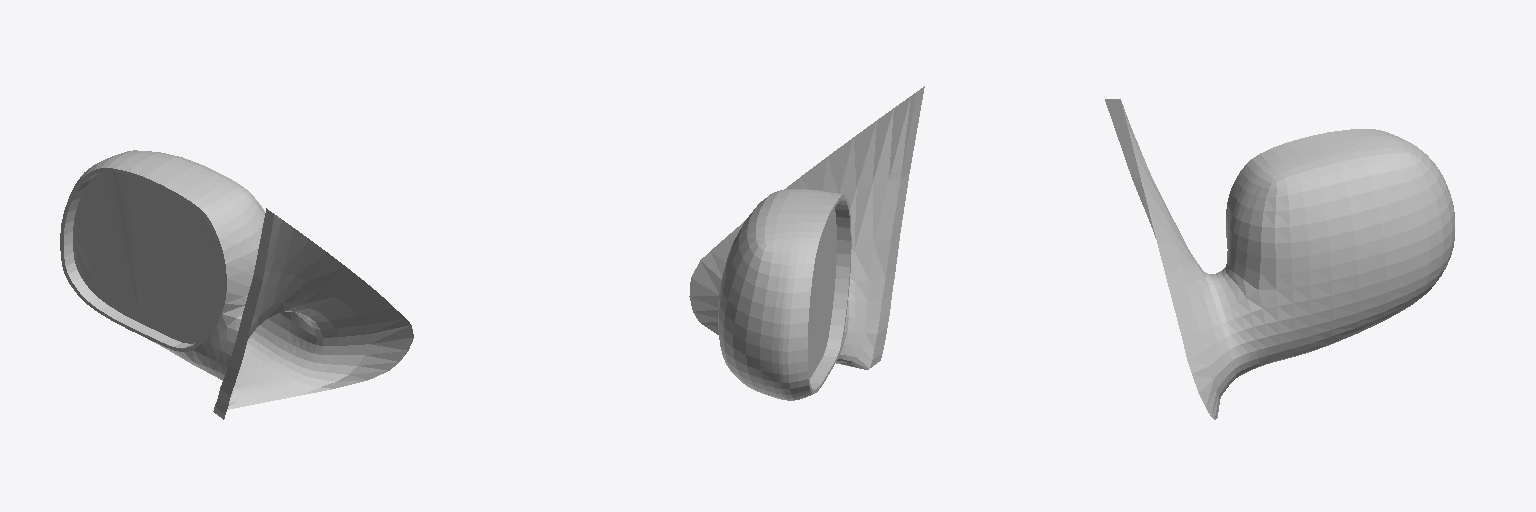
The picture shows the model from 3 angles: view 1: azimuth 30°, elevation 25°; view 2: azimuth 150°, elevation 25°; view 3: azimuth 270°, elevation 25°; orthographic projection.
Parts seen in each view (by area): view 1: P815_261I_L_1_D_P815_261I_L, P815_261I_L_P815_261I_L_2_DTaSI, P815_261I_L_P815_261I_L_3_DaS, P815_261I_L_P815_261I_L_3_DaS_E; view 2: P815_261I_L_1_D_P815_261I_L, P815_261I_L_P815_261I_L_3_DaS, P815_261I_L_P815_261I_L_2_DTaSI; view 3: P815_261I_L_P815_261I_L_3_DaS, P815_261I_L_1_D_P815_261I_L.
Part boxes in pixels (left/top/right/bottom): P815_261I_L_1_D_P815_261I_L: left=61, top=208, right=413, bottom=419; P815_261I_L_P815_261I_L_2_DTaSI: left=73, top=171, right=223, bottom=343; P815_261I_L_P815_261I_L_3_DaS: left=64, top=150, right=264, bottom=313; P815_261I_L_P815_261I_L_3_DaS_E: left=60, top=168, right=226, bottom=313; P815_261I_L_1_D_P815_261I_L: left=689, top=86, right=924, bottom=400; P815_261I_L_P815_261I_L_3_DaS: left=718, top=189, right=850, bottom=374; P815_261I_L_P815_261I_L_2_DTaSI: left=808, top=208, right=836, bottom=377; P815_261I_L_P815_261I_L_3_DaS: left=1226, top=129, right=1454, bottom=317; P815_261I_L_1_D_P815_261I_L: left=1105, top=99, right=1451, bottom=419.
Bounding box in the file's own units: 29.33 × 29.22 × 37.83.